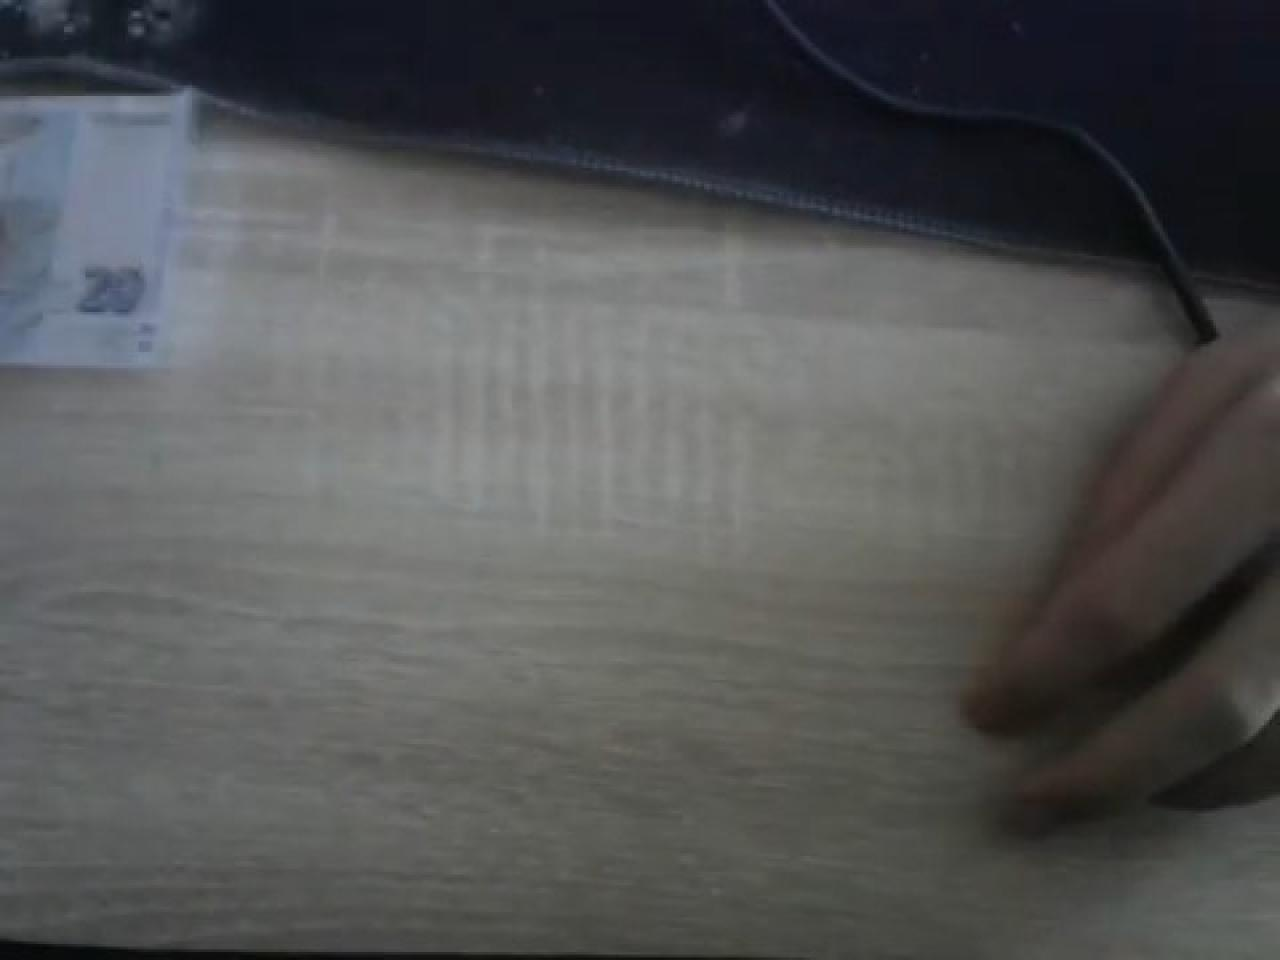20leva: (0, 62, 200, 371)
